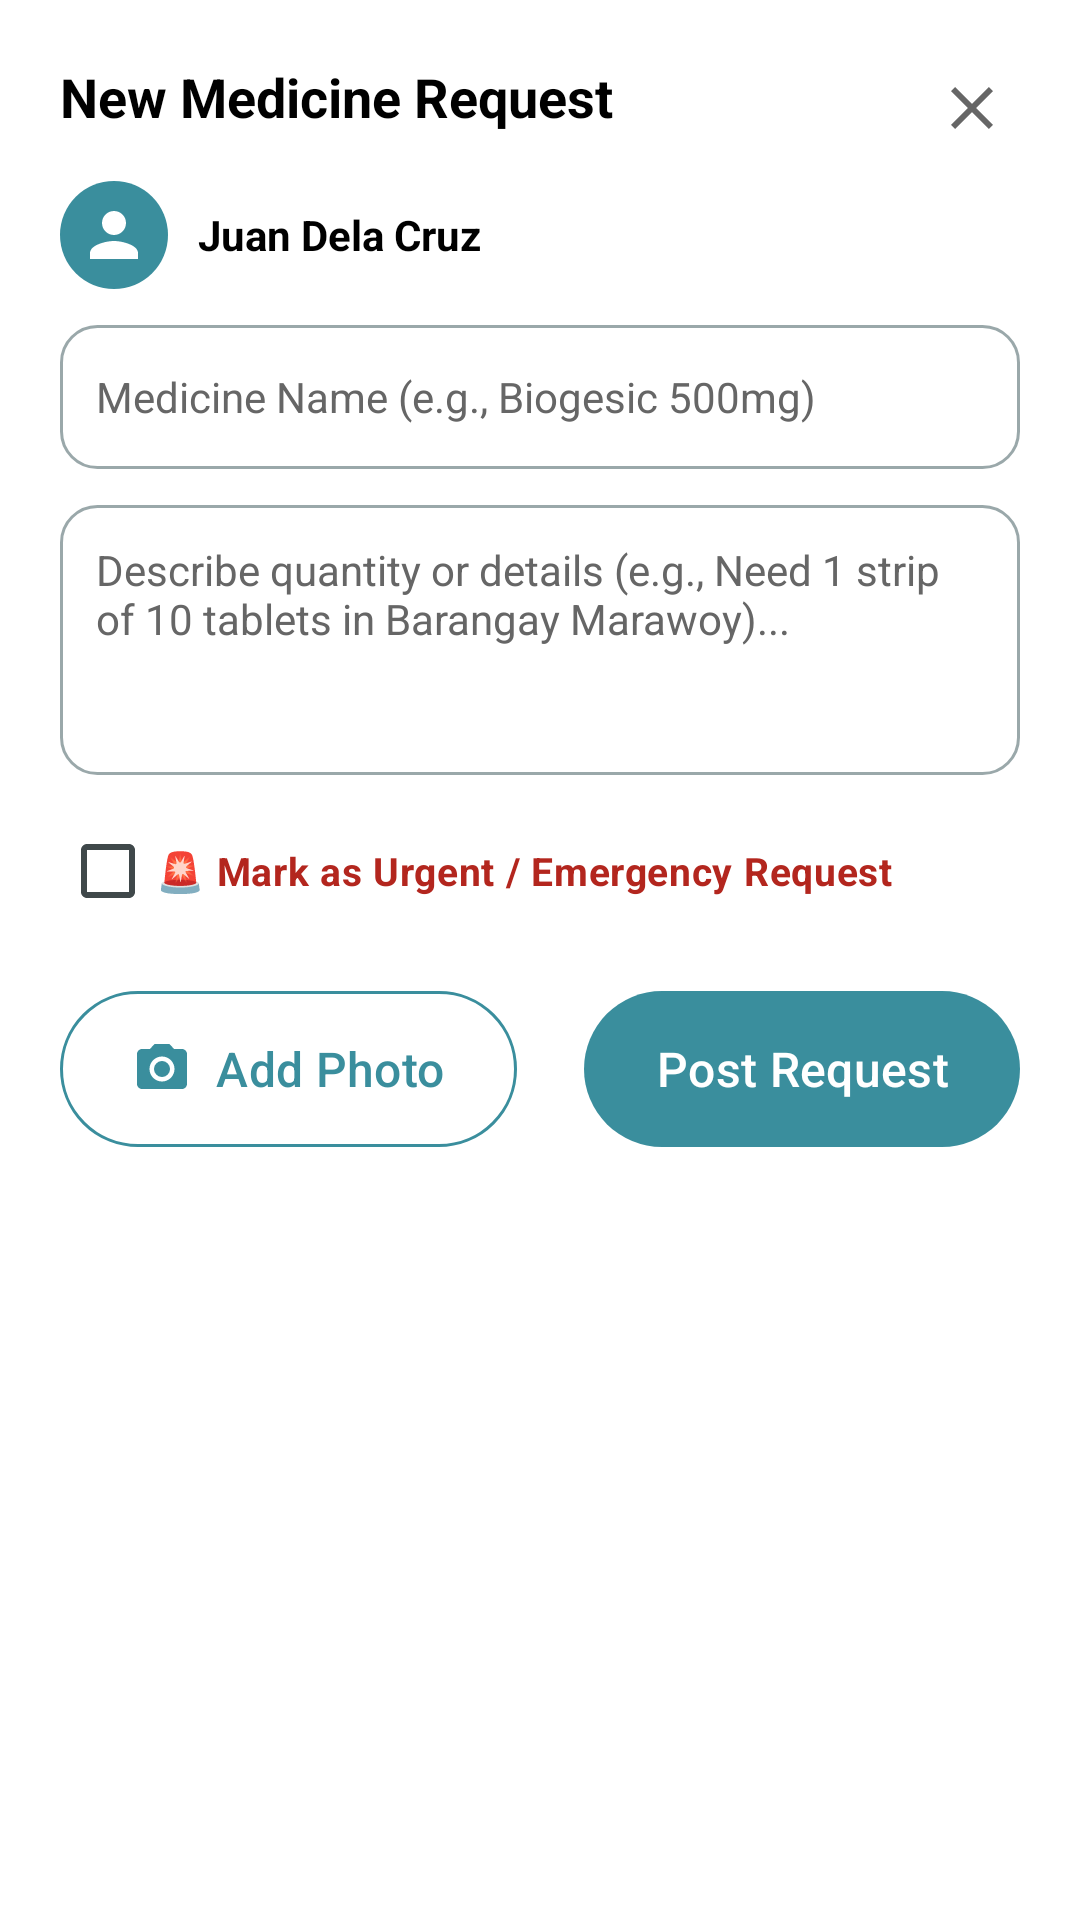

Named icons in this screenshot (1080px x 1920px) and their centers, (x,y):
Close: (972,108)
person: (114,235)
